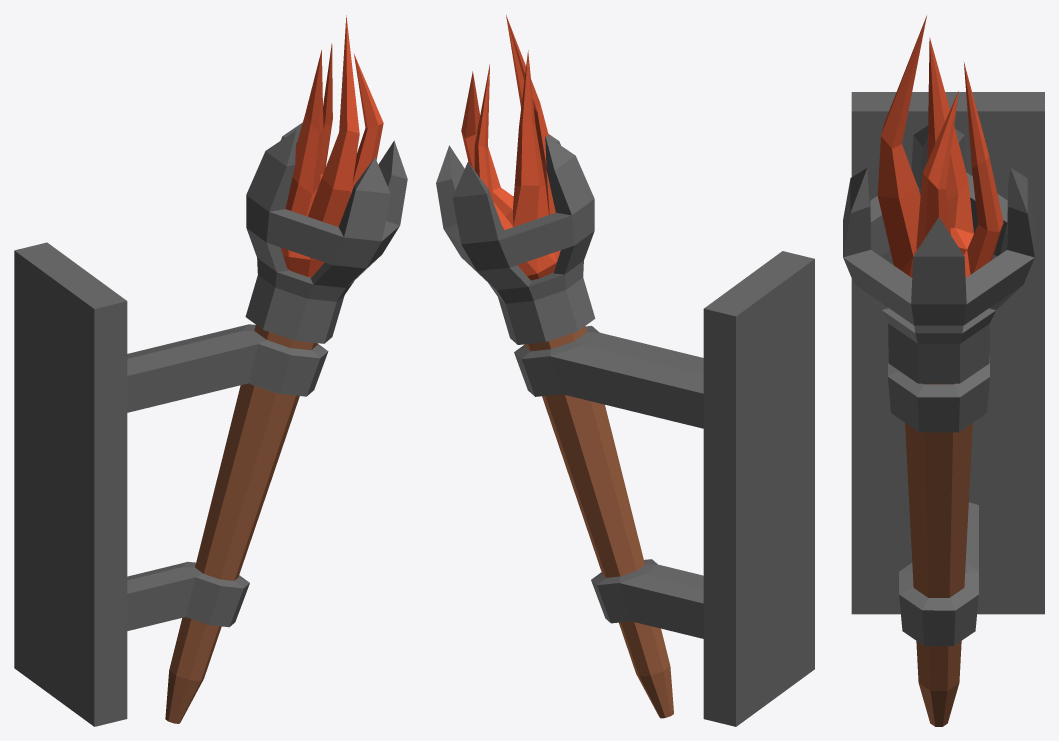
File: Torch_wall.glb
3 renders of one model, left to right at view 1: azimuth 30°, elevation 25°; view 2: azimuth 150°, elevation 25°; view 3: azimuth 270°, elevation 25°, orthographic. The views are drawn at different scales.
Parts seen in each view (by area): view 1: Torch; view 2: Torch; view 3: Torch.
Part boxes in pixels (x1,y1,x2,y2): Torch: (14, 15, 407, 726); Torch: (436, 15, 814, 726); Torch: (843, 15, 1044, 726).
Bounding box in the file's own units: 1.1 × 2.08 × 0.4704.
